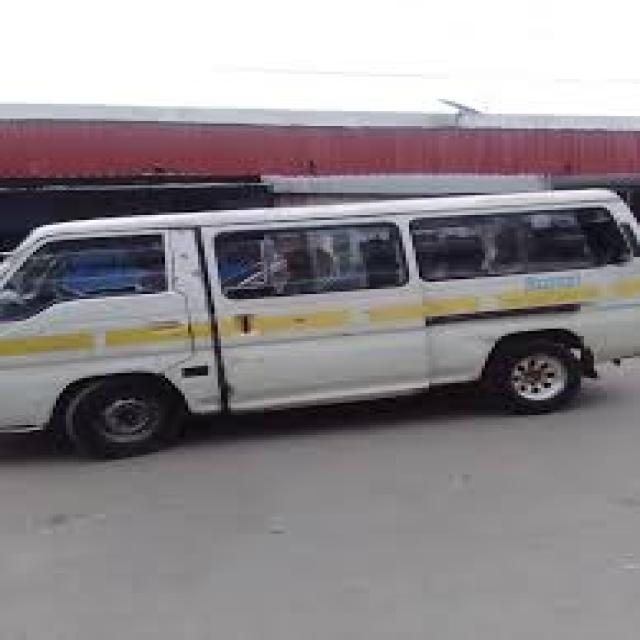matatu: (0, 132, 640, 492)
